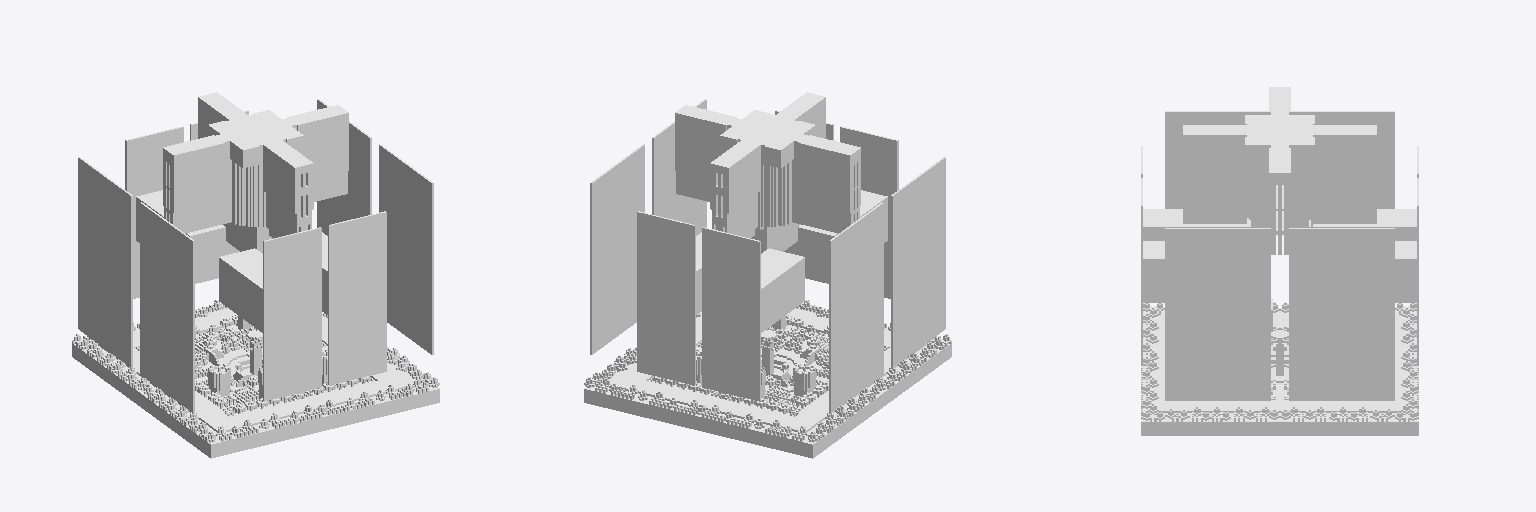
Rendered from MAP_2.obj.
3 views of the same model, side by side, from view 1: azimuth 30°, elevation 25°; view 2: azimuth 150°, elevation 25°; view 3: azimuth 270°, elevation 25° (orthographic).
Size of the model in its own units: 126 by 126 by 126.